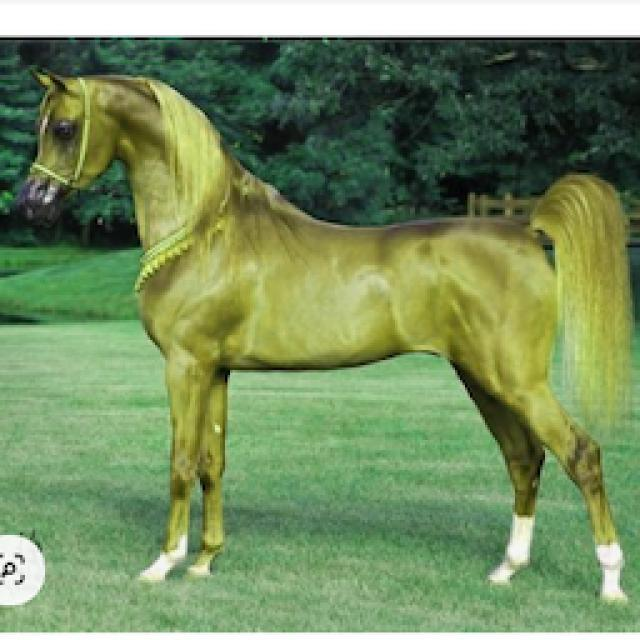Horse: (12, 62, 640, 606)
